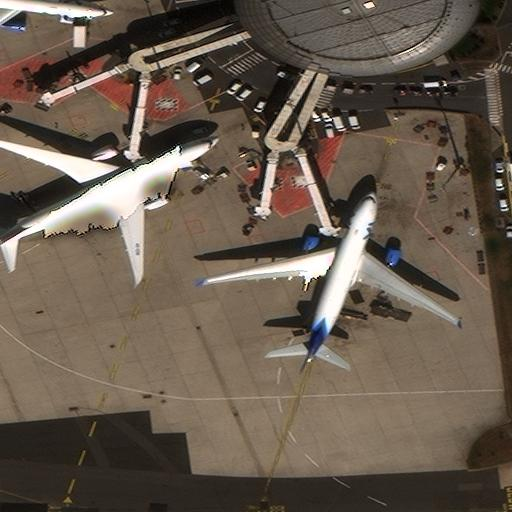Large Civil Transport: (203, 192, 460, 372), (0, 136, 217, 280), (0, 0, 113, 51)
